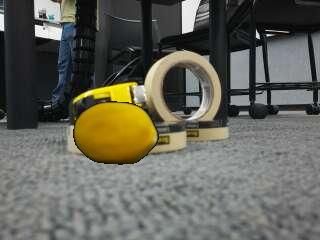lemon: (74, 103, 156, 164)
